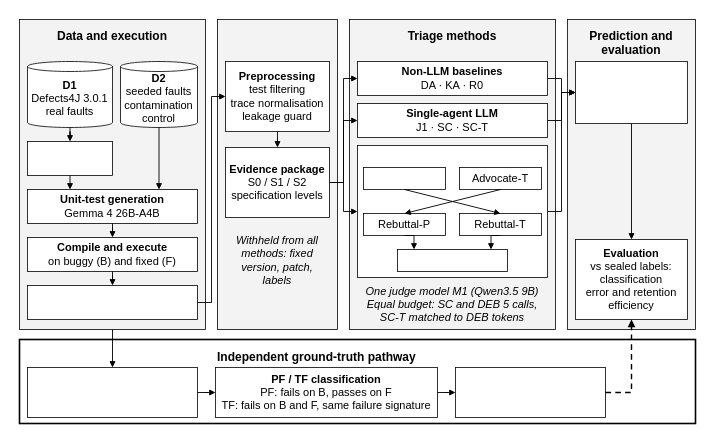
The diagram is 714 pixels wide and 442 high, and some of its shapes have lost their labels. The box of each missing label's shape, as (x1, y1, x2, y2) in pixels:
Adjudicator: (397, 249, 507, 271)
Advocate-P: (363, 167, 445, 189)
Common output PROGRAM_FAULT / TEST_FAULT cited evidence ids: (575, 61, 687, 123)
DEB: proposed adversarial debate: (357, 145, 547, 277)
Evidence preparation: (217, 19, 337, 329)
Execution outcomes every run on B and F: (27, 367, 197, 417)
Failure evidence outcome, message, stack trace: (27, 285, 197, 319)
Project split dev 3 · test 14: (27, 141, 112, 175)
Sealed labels never exposed to any triage method or LLM judge: (455, 367, 605, 417)
